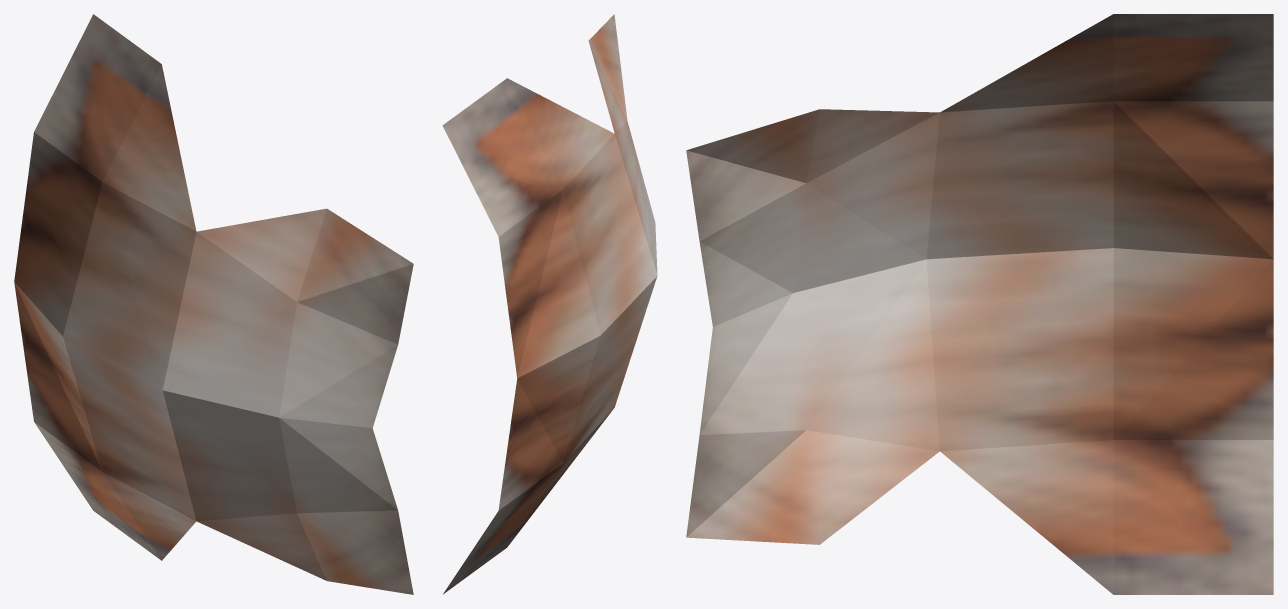
3 views of the same model, side by side, from view 1: azimuth 30°, elevation 25°; view 2: azimuth 150°, elevation 25°; view 3: azimuth 270°, elevation 25° (orthographic). The views are drawn at different scales.
Parts seen in each view (by area): view 1: B_0020_1a_0; view 2: B_0020_1a_0; view 3: B_0020_1a_0.
Part boxes in pixels (left/top/right/bottom): B_0020_1a_0: left=14, top=14, right=413, bottom=594; B_0020_1a_0: left=442, top=14, right=657, bottom=594; B_0020_1a_0: left=686, top=14, right=1273, bottom=594.
Size of the model in its own units: 0.765 by 2.16 by 1.98.
Materials: 1 (1 with a texture image).
